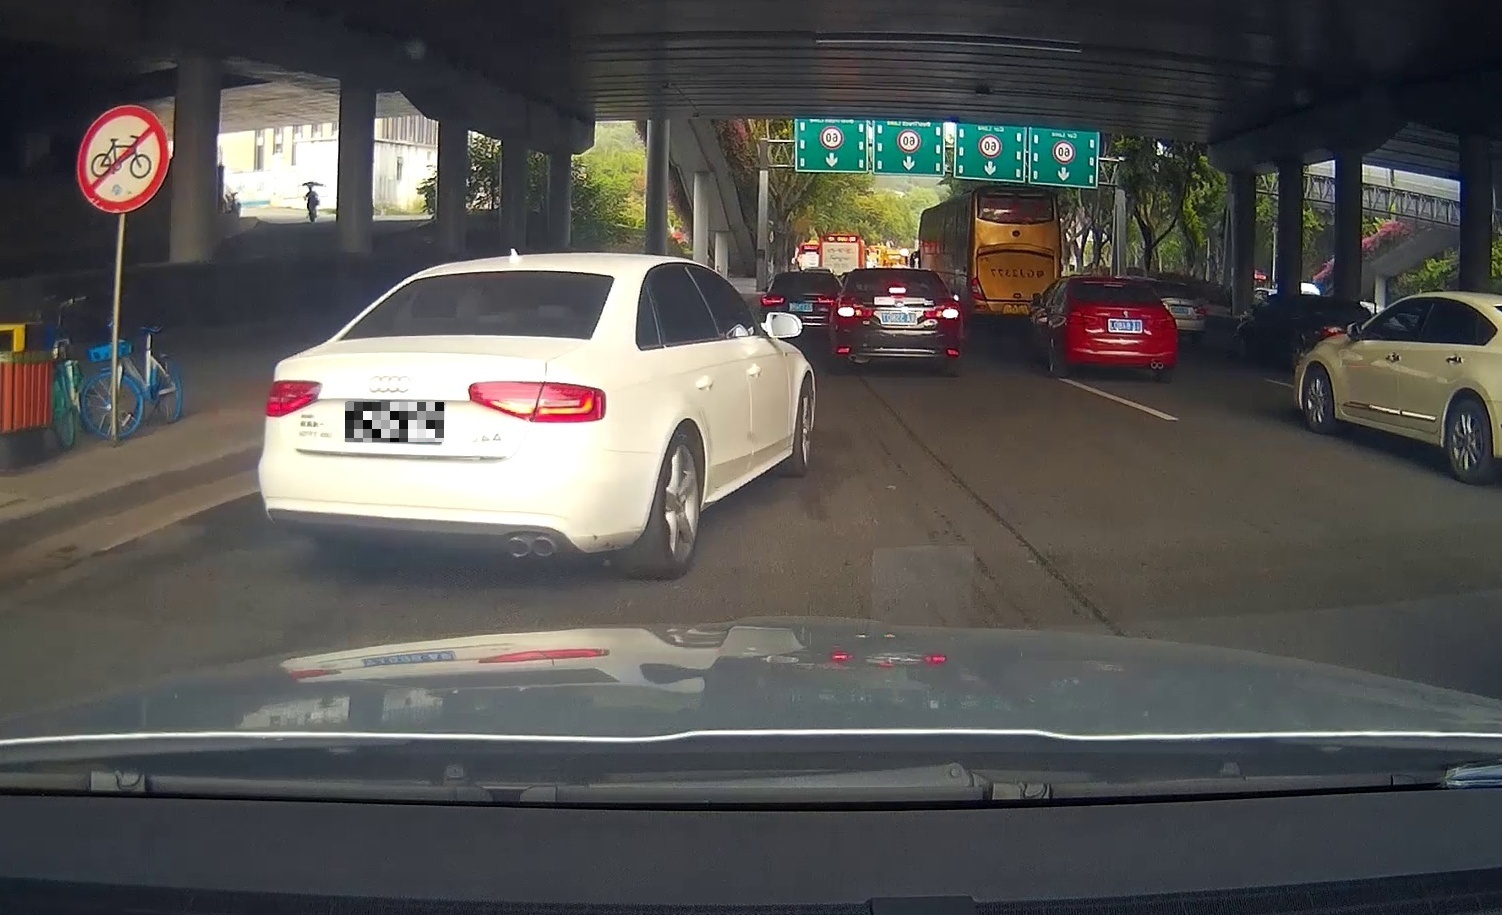L_light: (265, 379, 322, 417), (837, 305, 871, 318), (1064, 314, 1095, 325)
R_light: (467, 380, 607, 423), (924, 304, 959, 318), (1153, 318, 1176, 329)
T_light: (489, 270, 530, 277), (888, 287, 907, 294), (1103, 282, 1123, 287)
day-brake: (831, 267, 964, 377)
day-no: (1056, 276, 1178, 382)
day-right: (257, 252, 616, 576)
plate_1: (345, 402, 444, 442)
